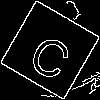C: (25, 25, 80, 83)
